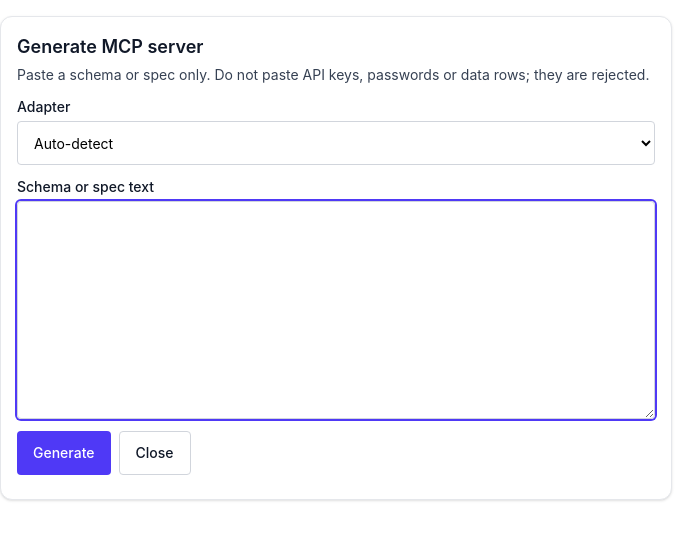
Test case: GenerateMcpPanel › shows gaps as code: message without echoing the input
Type "SUPERSECRETINPUT" into the text box labelled "Schema or spec text".
click(336, 310); type("SUPERSECRETINPUT")  # box [17,201,655,419]
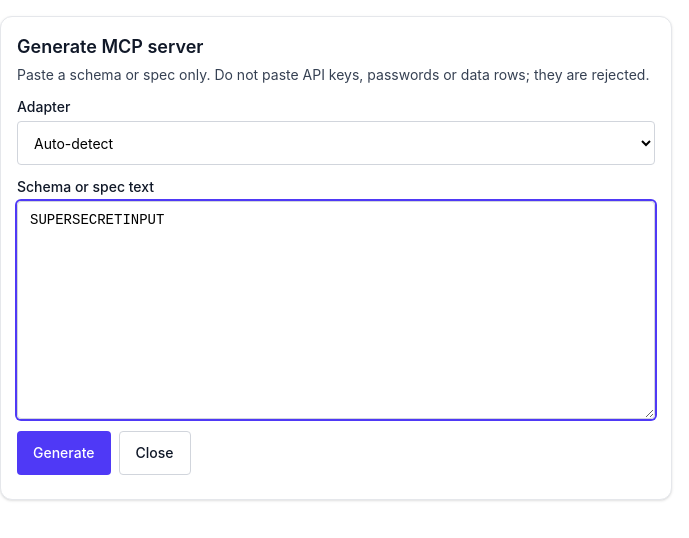
Click the button "Generate".
click(64, 453)  # box [17,431,110,475]
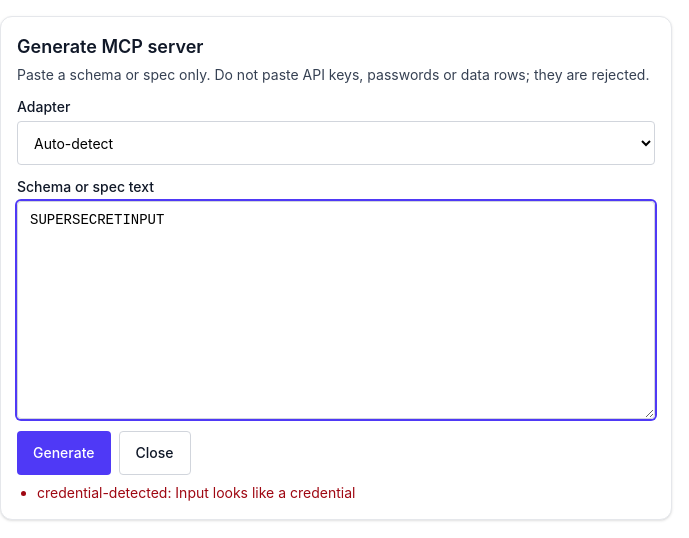
Expected: the message does not show "SUPERSECRETINPUT"
Now the message reads "credential-detected: Input looks like a credential", box [37,484,355,501]
